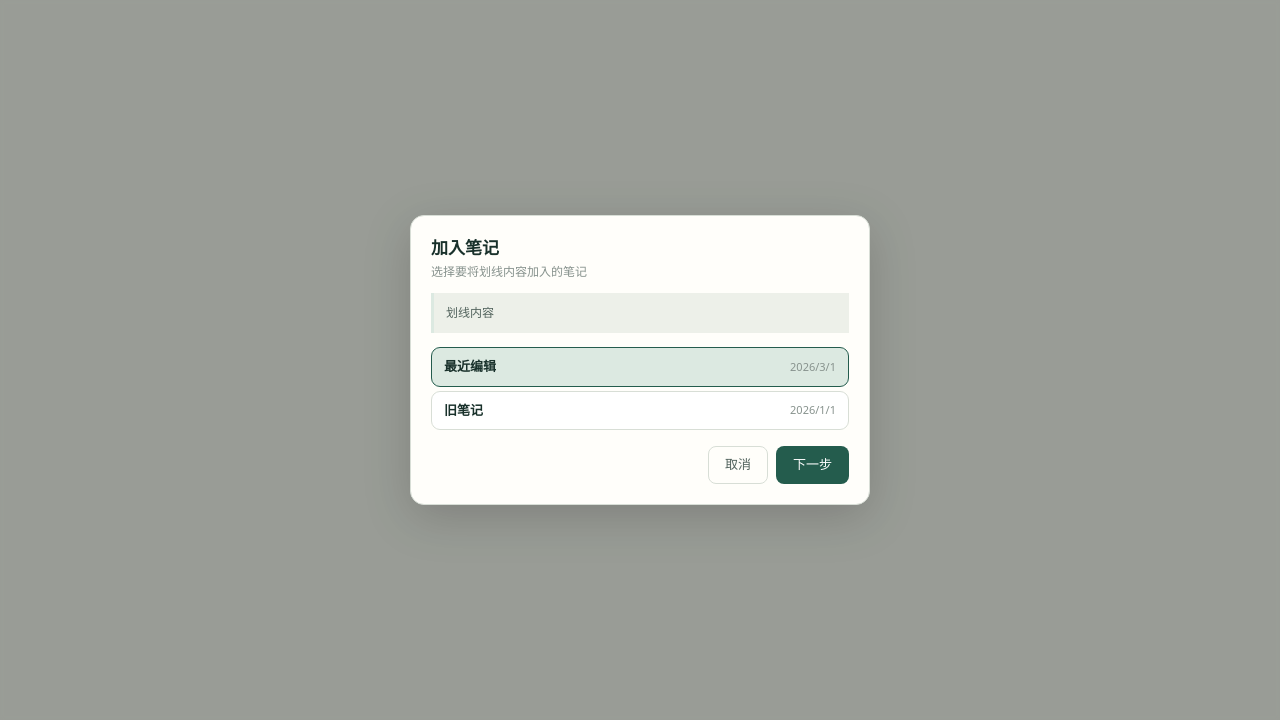
AddToNoteDialog › 点击笔记后进入标题层级选择
The width and height of the screenshot is (1280, 720).
Click the button with class "add-note-item" showing "最近编辑 2026/3/1" at (470, 366), box x1=431 y1=347 x2=849 y2=387
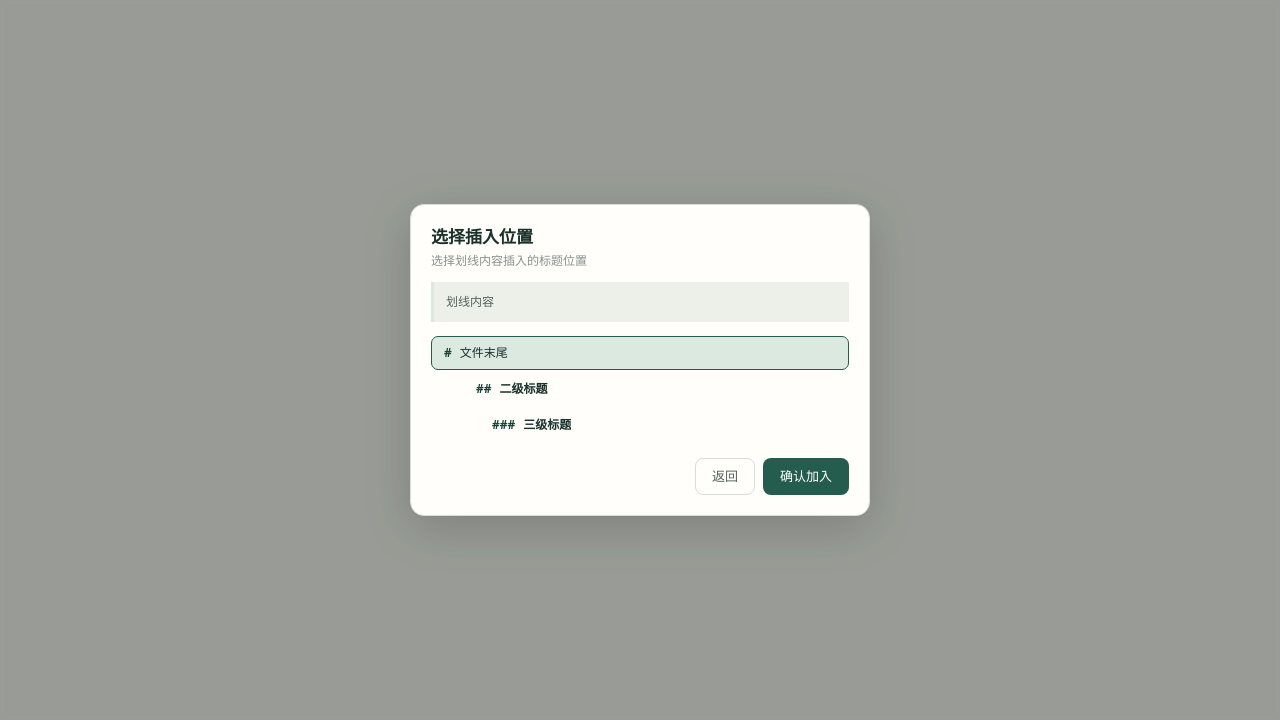
Now the text "选择插入位置" is shown, box x1=431 y1=228 x2=533 y2=246
